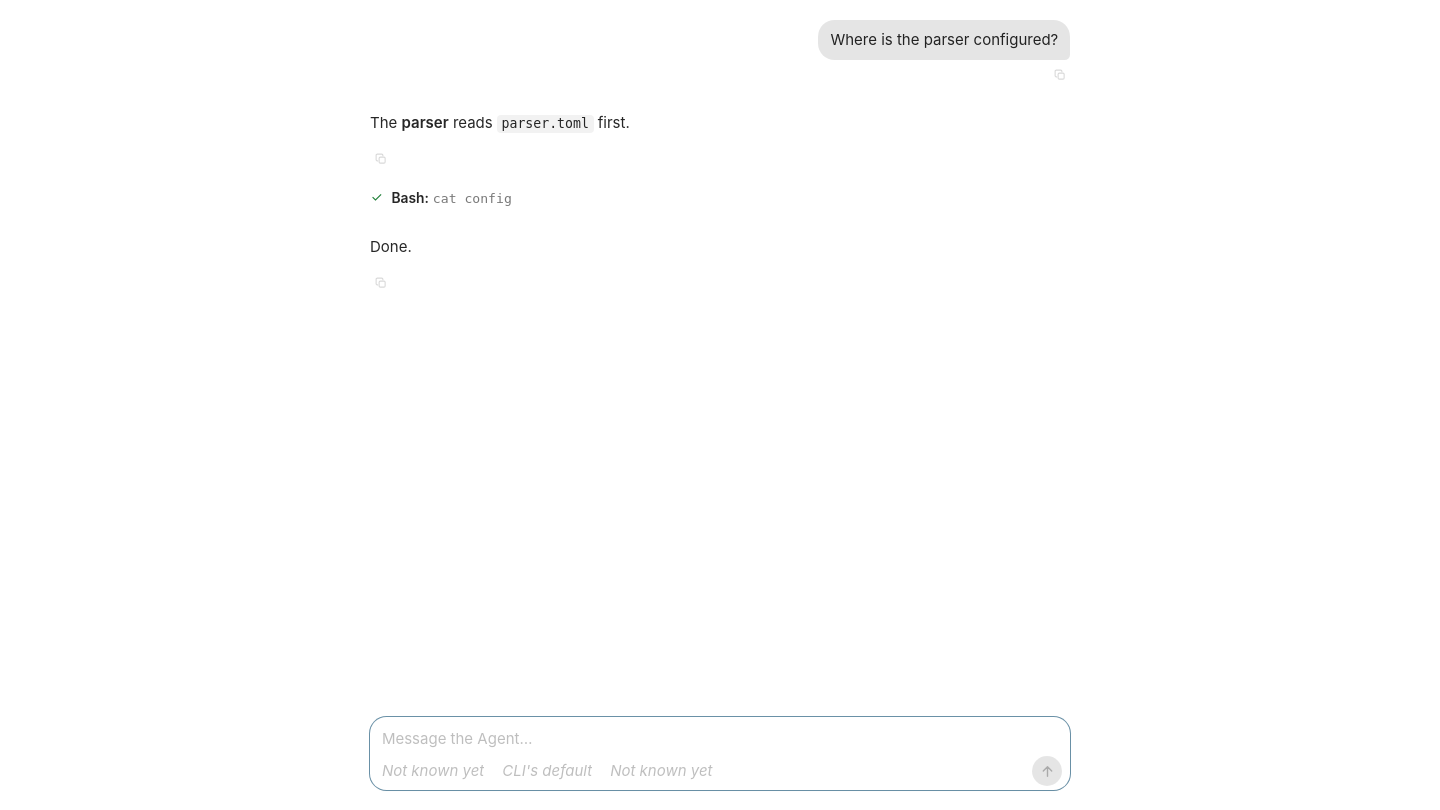
Test case: the find bar › goes to the next and the previous match with Return and Shift+Return, around the ends
Press f in the text box labelled "Message the Agent…", box [382,725,1062,752]
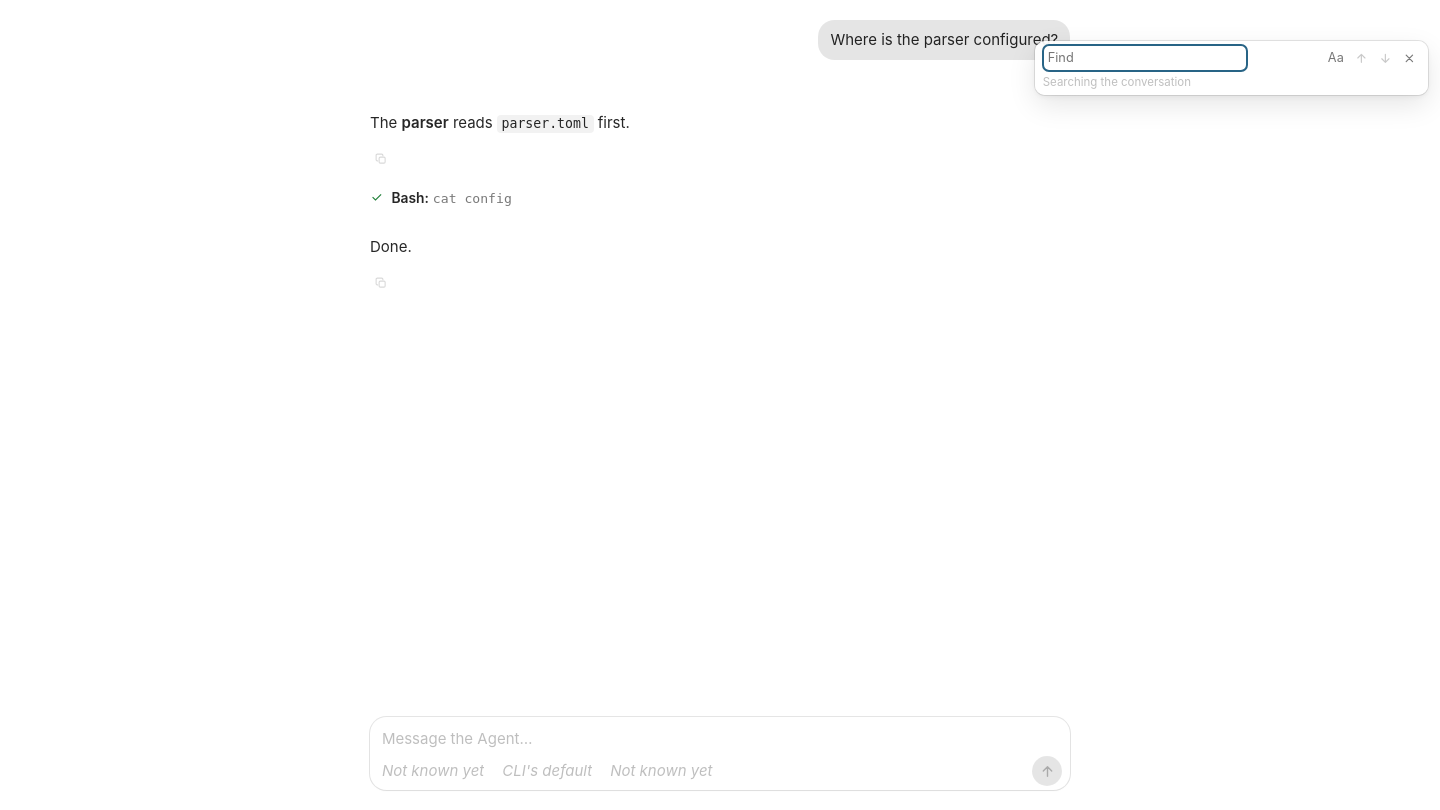
Type "parser" into the field labelled "Find" at (1145, 58), box [1043,45,1247,71]
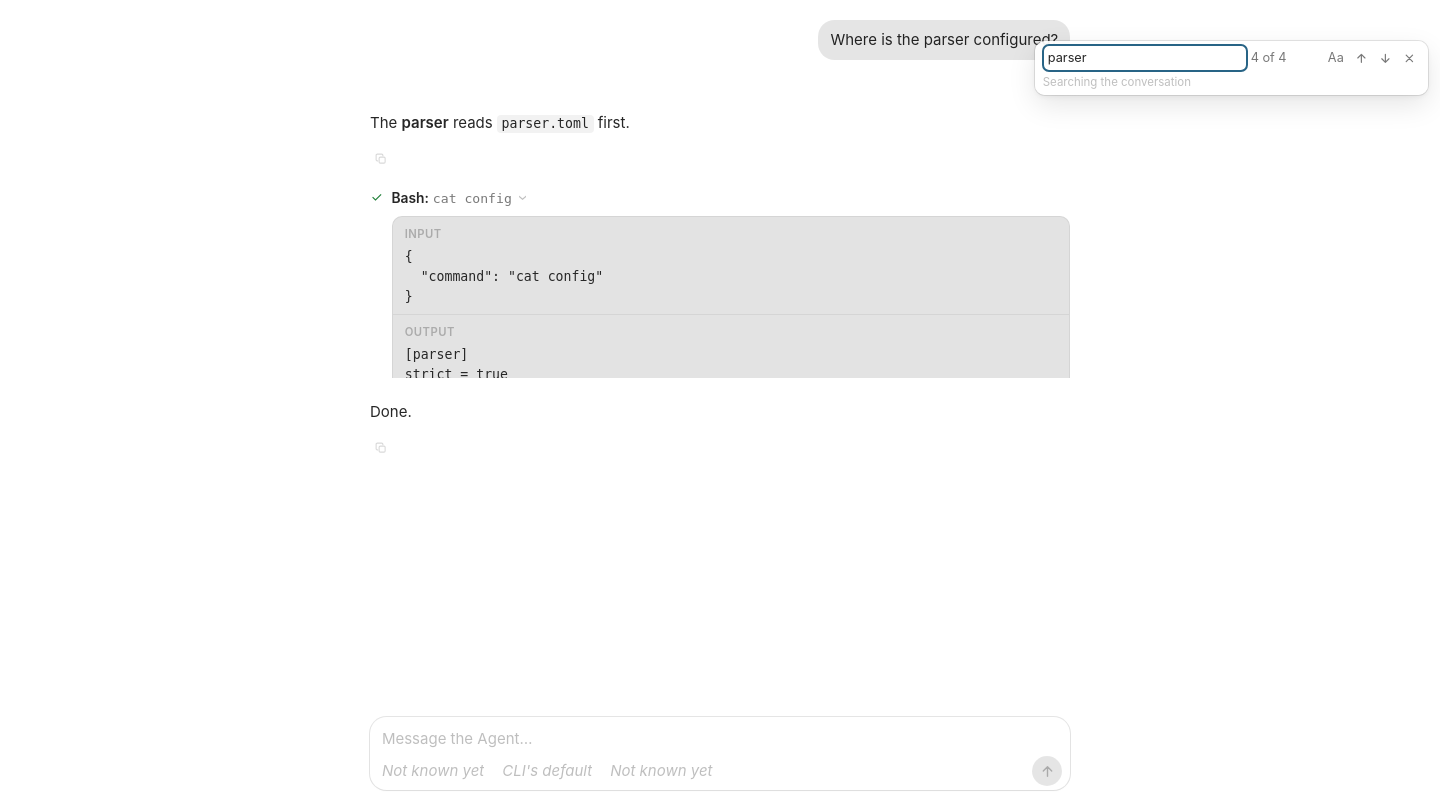
Expected: the text with class "conversation-find-count" reads "4 of 4", [1251,50,1286,65]
Press Enter in the field named "Find", box [1043,45,1247,71]
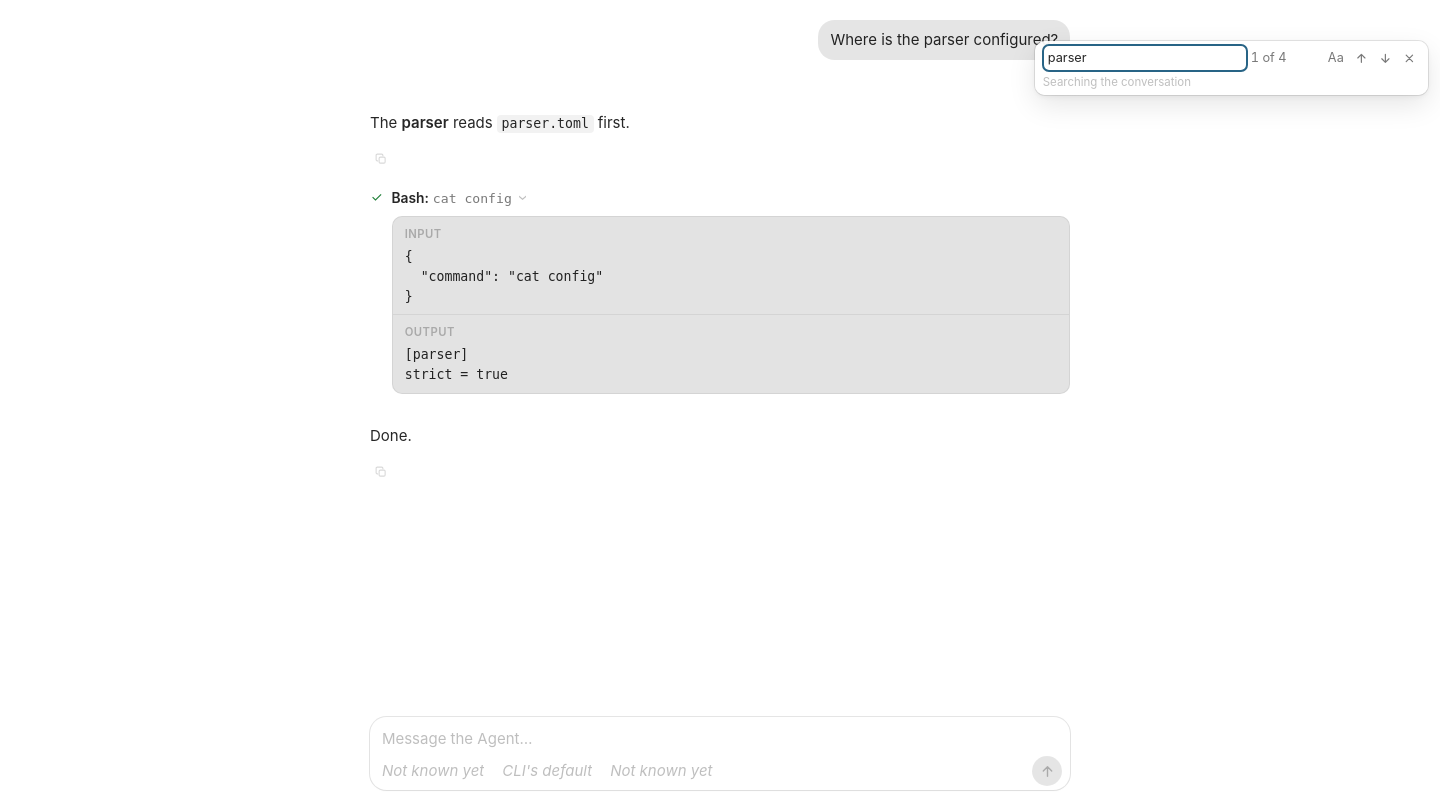
Expected: the text with class "conversation-find-count" reads "1 of 4", [1251,50,1286,65]
Press Enter in the field named "Find", box [1043,45,1247,71]
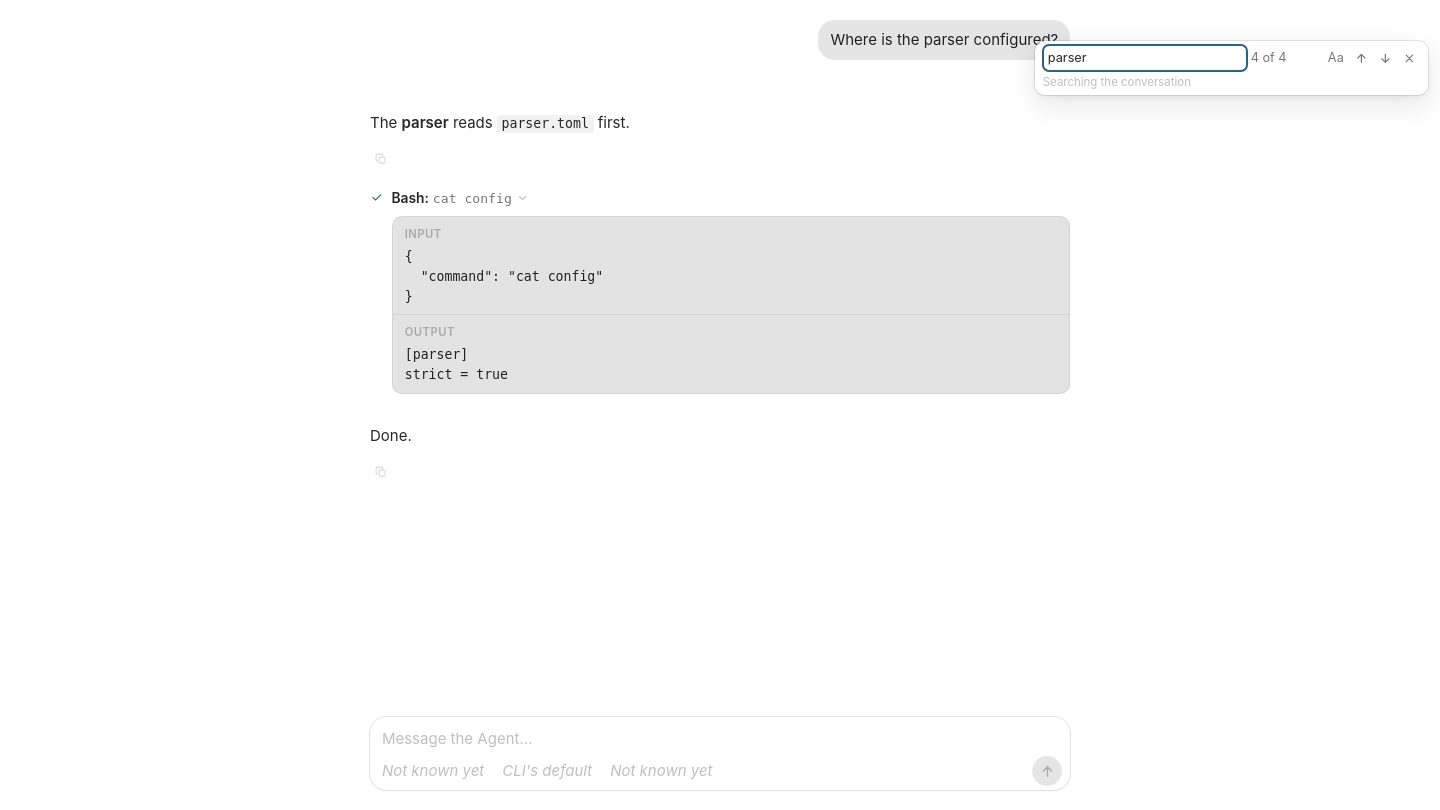
Press Enter in the field named "Find", box [1043,45,1247,71]
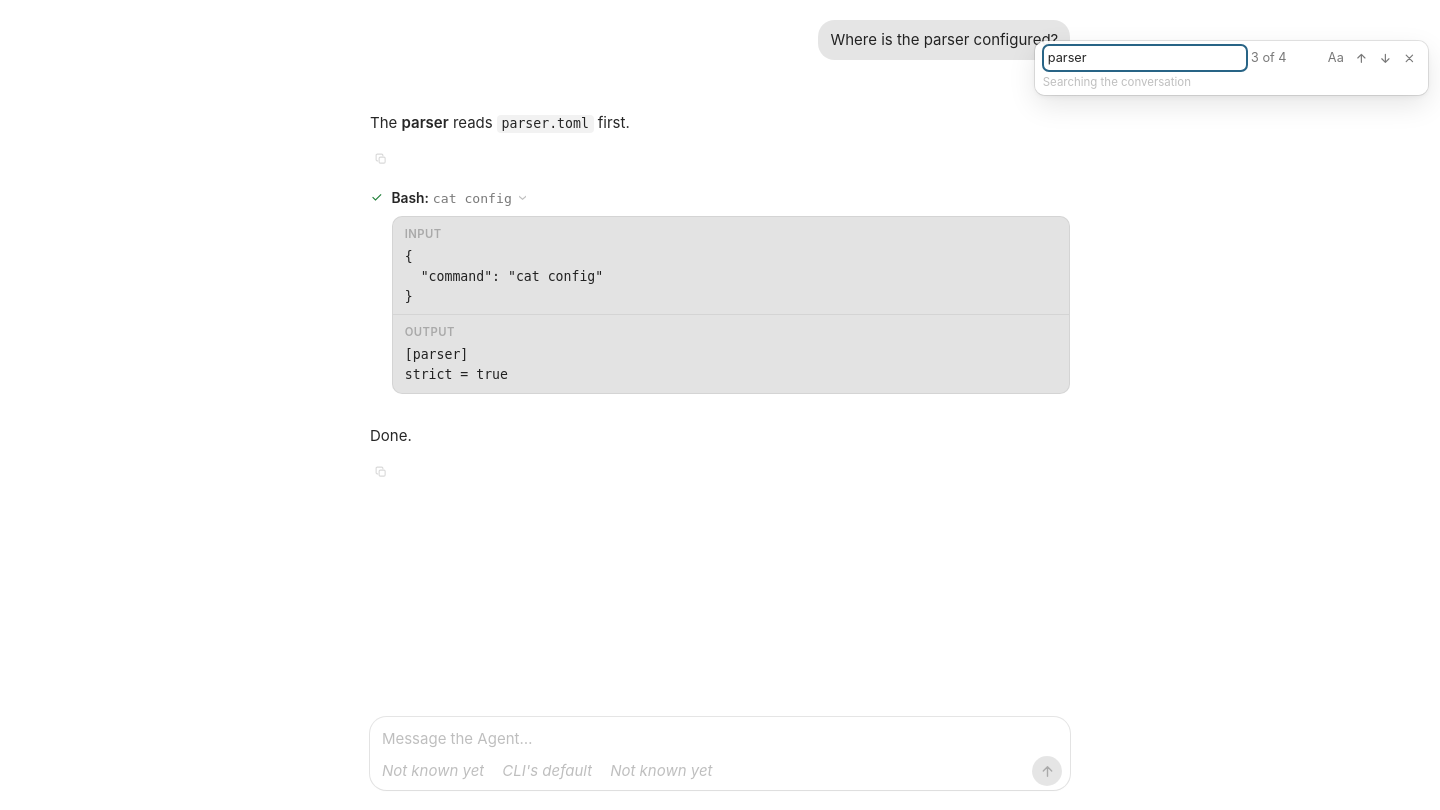
Expected: the text with class "conversation-find-count" reads "3 of 4", [1251,50,1286,65]
Press Enter in the field named "Find", box [1043,45,1247,71]
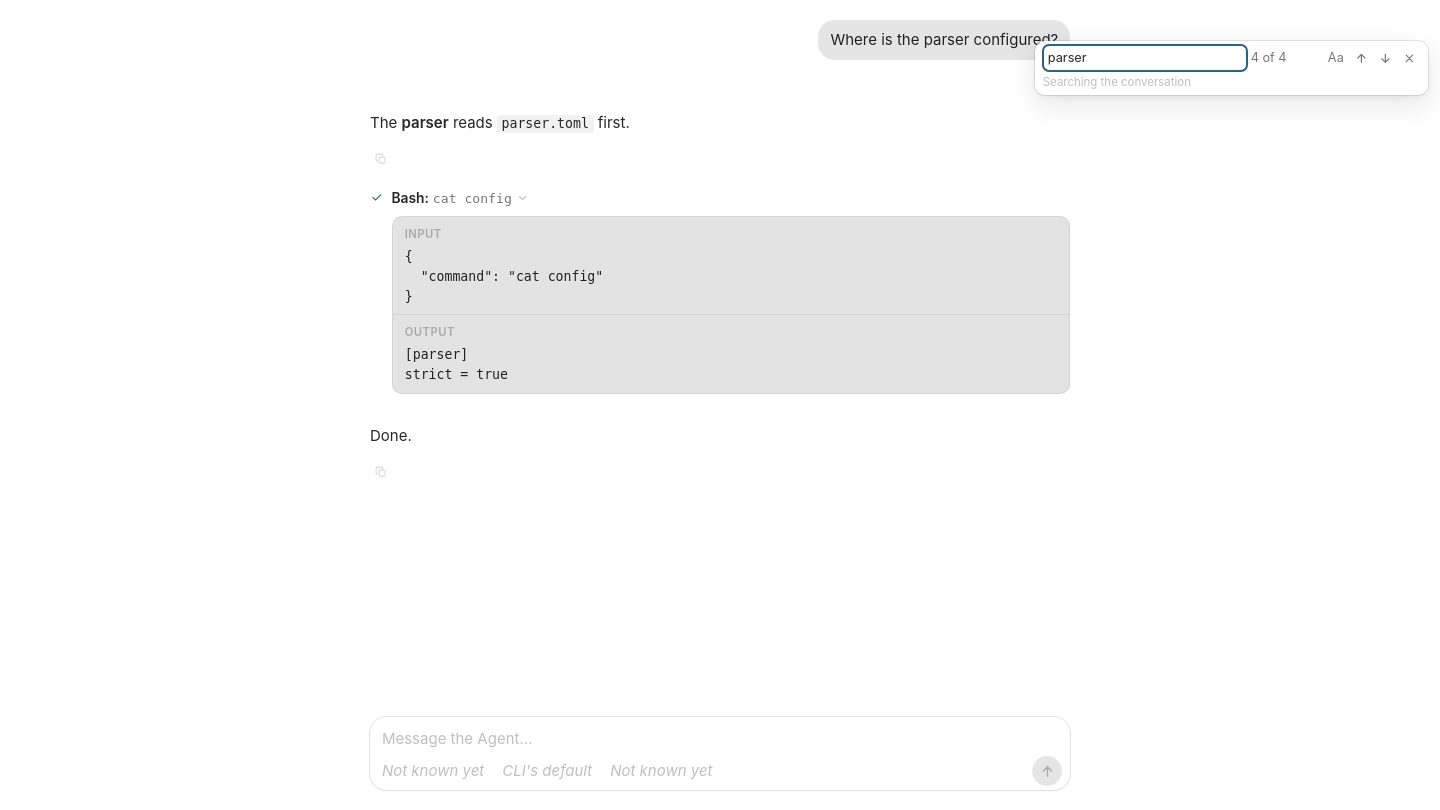
Expected: the text with class "conversation-find-count" reads "4 of 4", [1251,50,1286,65]
